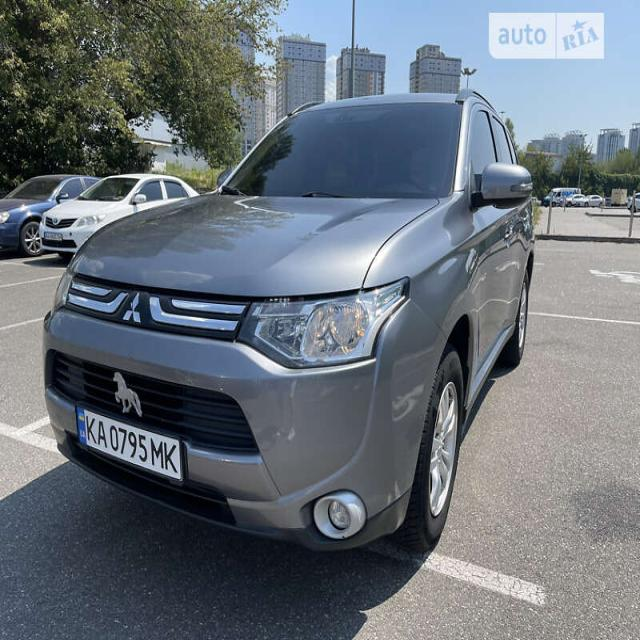plate: (79, 400, 185, 502)
